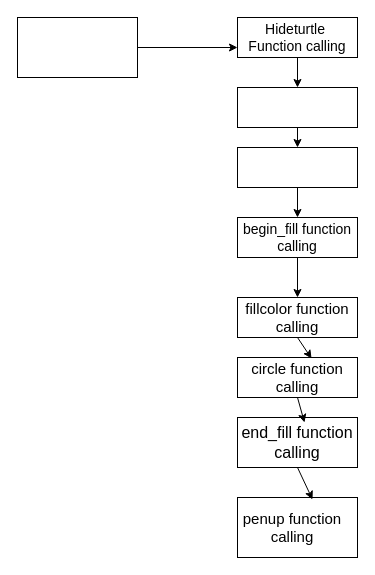
Image size: 375x575. Some labels were removed from this diagram. Here are the shapes that lost their labels. From the top down, the centre of each, then its label:
At pixel 77 47: "save state function calling".
At pixel 297 107: "goto function calling".
At pixel 297 167: "pendown function calling".
